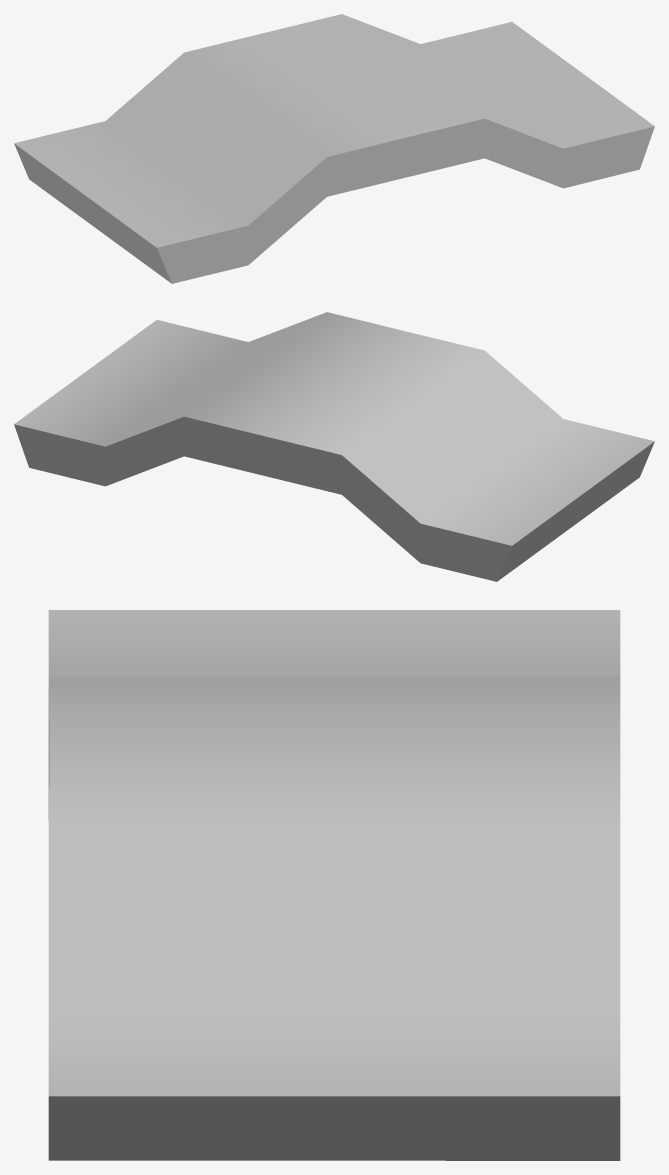
File: Itr_Obj_Grandfatherclock1_Top_06.FBX
The picture shows the model from 3 angles, top to bottom: view 1: azimuth 30°, elevation 25°; view 2: azimuth 150°, elevation 25°; view 3: azimuth 270°, elevation 25°; orthographic projection. The views are drawn at different scales.
Parts seen in each view (by area): view 1: Itr_Obj_Grandfatherclock1_Top_06; view 2: Itr_Obj_Grandfatherclock1_Top_06; view 3: Itr_Obj_Grandfatherclock1_Top_06.
Boxes of the visible parts, x1=… form: Itr_Obj_Grandfatherclock1_Top_06: x1=14, y1=14, x2=654, y2=283; Itr_Obj_Grandfatherclock1_Top_06: x1=14, y1=312, x2=654, y2=581; Itr_Obj_Grandfatherclock1_Top_06: x1=48, y1=610, x2=620, y2=1160.
Size of the model in its own units: 22.92 by 3.92 by 11.39.
